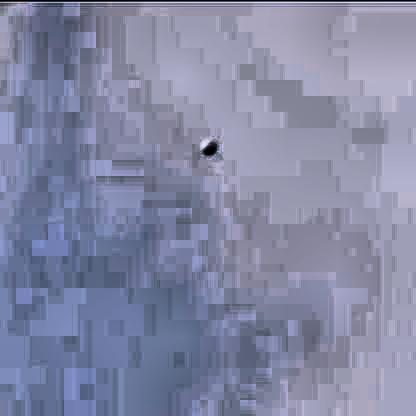golfball: (198, 134, 216, 153)
